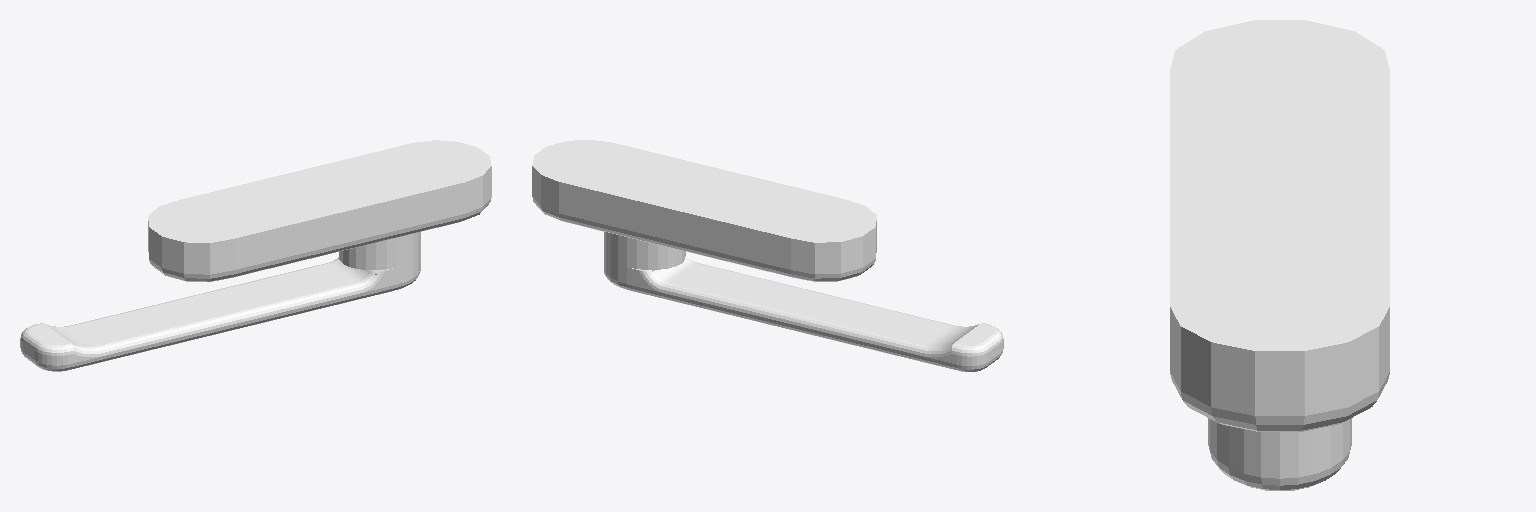
URDF robot description (window):
<?xml version="1.0" ?>
<robot name="window">
	<link name="base"/>
	<link name="link_0">
		<visual name="out-frame">
			<origin xyz="0 0 0"/>
			<geometry>
				<mesh filename="texture_dae/untitled.dae" scale="1 1 1"/>
			</geometry>
		</visual>
		<collision>
			<origin xyz="0 0 0"/>
			<geometry>
				<mesh filename="texture_dae/untitled.dae" scale="1 1 1"/>
			</geometry>
		</collision>
	</link>
	<joint name="joint_0" type="fixed">
		<origin rpy="1.570796326794897 0 -1.570796326794897" xyz="0 0 0"/>
		<child link="link_0"/>
		<parent link="base"/>
	</joint>
	<link name="link_1">
		<visual name="surf-board">
			<origin xyz="0.3051365797779531 -0.42271840093149793 0"/>
			<geometry>
				<mesh filename="texture_dae/untitled1.dae" scale="1 1 1"/>
			</geometry>
		</visual>
		<collision>
			<origin xyz="0.3051365797779531 -0.42271840093149793 0"/>
			<geometry>
				<mesh filename="texture_dae/untitled1.dae" scale="1 1 1"/>
			</geometry>
		</collision>
	</link>
	<joint name="joint_1" type="revolute">
		<origin xyz="-0.3051365797779531 0.42271840093149793 0"/>
		<axis xyz="0 -1 0"/>
		<child link="link_1"/>
		<parent link="link_0"/>
		<limit lower="0" upper="1.5079644737231006"/>
	</joint>
	<link name="link_2">
		<visual name="handle">
			<origin xyz="0 0 0"/>
			<geometry>
				<mesh filename="texture_dae/9969503-handle.dae" scale="0.8982036074989415 0.8982036074989415 0.8982036074989415"/>
			</geometry>
		</visual>
		<collision>
			<origin xyz="0 0 0"/>
			<geometry>
				<mesh filename="texture_dae/9969503-handle.dae" scale="0.8982036074989415 0.8982036074989415 0.8982036074989415"/>
			</geometry>
		</collision>
	</link>
	<joint name="joint_2" type="revolute">
		<origin xyz="0 0 0"/>
		<child link="link_2"/>
		<parent link="link_3"/>
		<axis xyz="0 0 1"/>
		<limit lower="0" upper="1.5079644737231006"/>
	</joint>
	<link name="link_3">
		<visual name="lock">
			<origin xyz="0 0 0"/>
			<geometry>
				<mesh filename="texture_dae/9969503-lock.dae" scale="0.8982036074989415 0.8982036074989415 0.8982036074989415"/>
			</geometry>
		</visual>
		<collision>
			<origin xyz="0 0 0"/>
			<geometry>
				<mesh filename="texture_dae/9969503-lock.dae" scale="0.8982036074989415 0.8982036074989415 0.8982036074989415"/>
			</geometry>
		</collision>
	</link>
	<joint name="joint_3" type="fixed">
		<origin xyz="0.5650000618394104 -0.42271840093149793 0.015310818353232131"/>
		<child link="link_3"/>
		<parent link="link_1"/>
	</joint>
</robot>

--- Facts derived from the render (not from the file) ---
Views: 3 orthographic renders of the robot side by side, from view 1: azimuth 30°, elevation 25°; view 2: azimuth 150°, elevation 25°; view 3: azimuth 270°, elevation 25°.
Robot: window — 5 links, 4 joints (2 revolute, 2 fixed); root link base; default pose: every joint at zero.
Visible links, largest first — view 1: link_3, link_2; view 2: link_3, link_2; view 3: link_3, link_2.
Boxes of the visible links, left/top/right/bottom form: link_3: left=148, top=140, right=491, bottom=281; link_2: left=20, top=232, right=420, bottom=371; link_3: left=532, top=140, right=876, bottom=281; link_2: left=604, top=232, right=1003, bottom=371; link_3: left=1170, top=20, right=1389, bottom=431; link_2: left=1208, top=418, right=1351, bottom=490.
Size in the robot's own frame: 0.176 by 0.0359 by 0.0386 metres.
2 mesh visuals loaded from 4 distinct referenced files (2 Collada DAE); not drawn: 2 (file found but could not be loaded).
